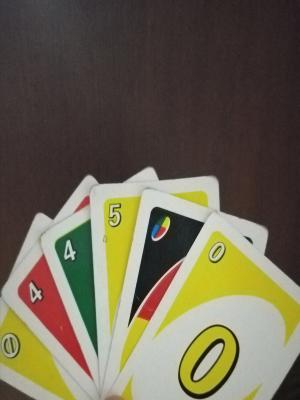num_0: (202, 235, 237, 285)
num_4: (48, 233, 81, 272)
num_5: (98, 195, 133, 234)
wild: (147, 201, 172, 257)
yellow: (176, 307, 239, 400)
